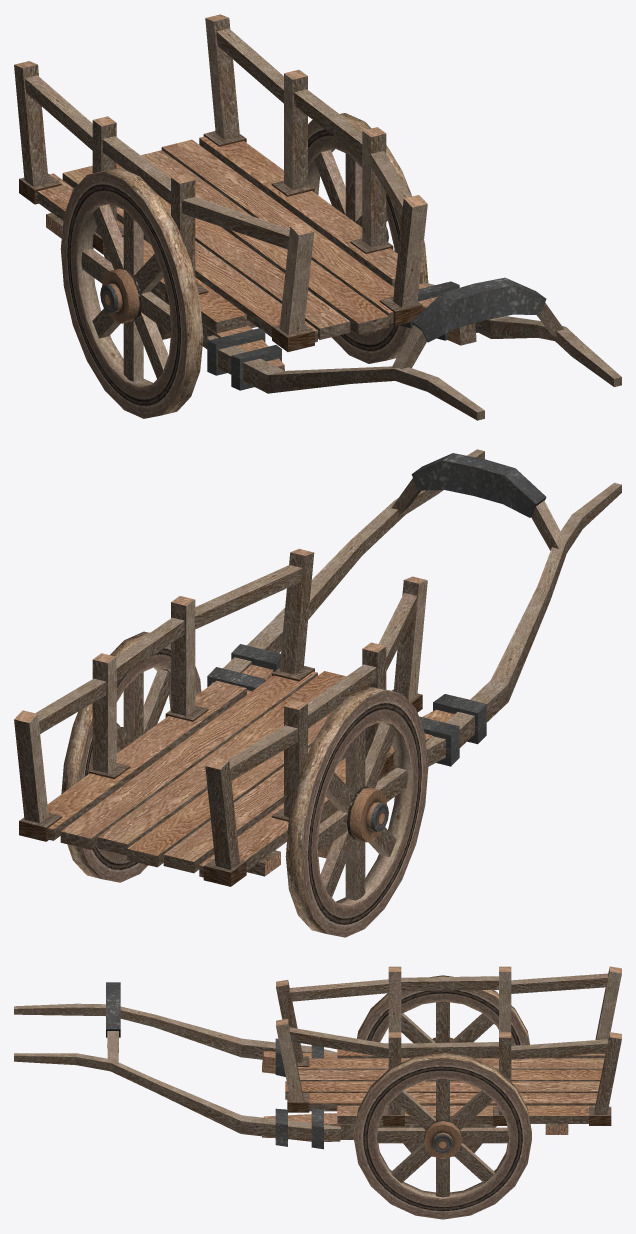
The model's file is cart.glb.
The picture shows the model from 3 angles, top to bottom: view 1: azimuth 30°, elevation 25°; view 2: azimuth 150°, elevation 25°; view 3: azimuth 270°, elevation 25°; orthographic projection. The views are drawn at different scales.
Parts seen in each view (by area): view 1: CartBody, WheelR, WheelL; view 2: CartBody, WheelR, WheelL; view 3: CartBody, WheelL, WheelR.
Part boxes in pixels (x1,y1,x2,y2): CartBody: (14, 14, 621, 420); WheelR: (60, 168, 203, 418); WheelL: (308, 113, 428, 363); CartBody: (14, 449, 621, 886); WheelR: (285, 686, 428, 937); WheelL: (61, 631, 201, 882); CartBody: (14, 966, 621, 1156); WheelL: (353, 1052, 531, 1219); WheelR: (357, 975, 529, 1045).
Size of the model in its own units: 3.57 by 3.3 by 9.75.
Materials: 1 (1 with a texture image).
